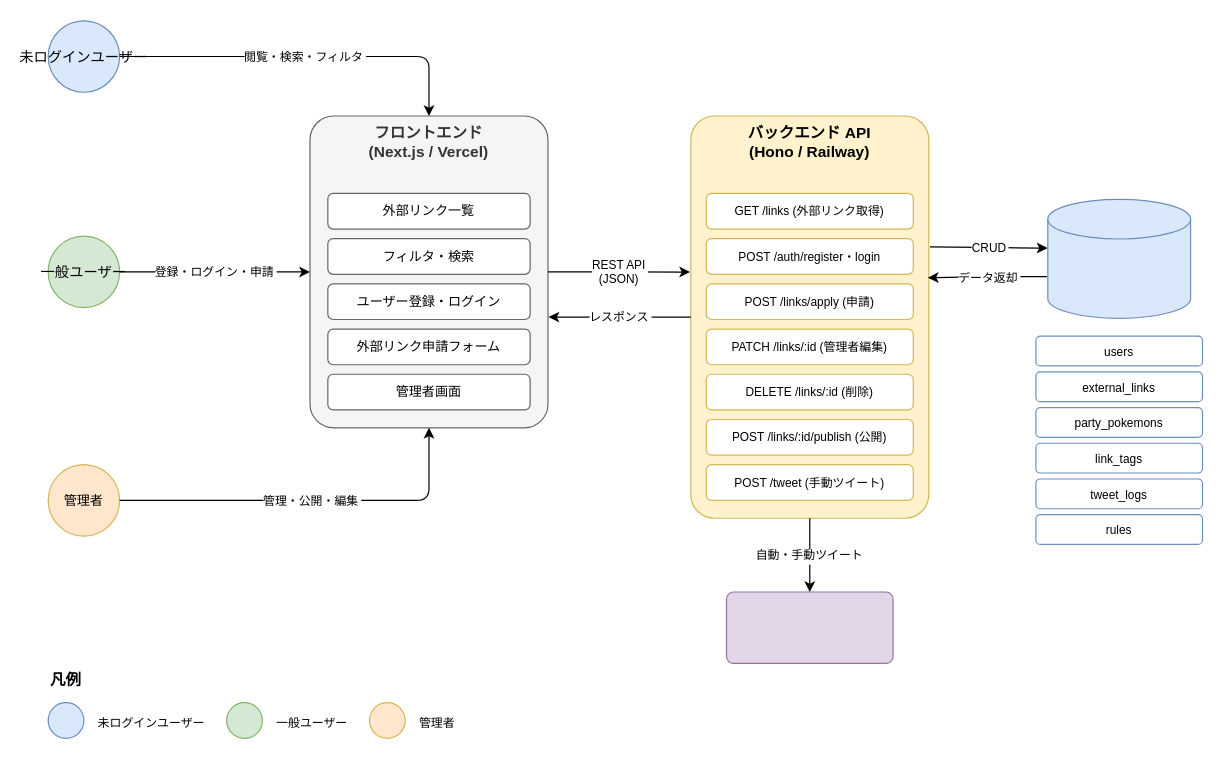
This 1225x759 diagram has some shape labels left out. The shapes that lost their labels are listed below. From the top down, each one's centre as x and y in pixels, then its label:
At (x=1119, y=258): "PostgreSQL (DB)".
At (x=809, y=627): "Twitter (X) Bot (API v2)".
